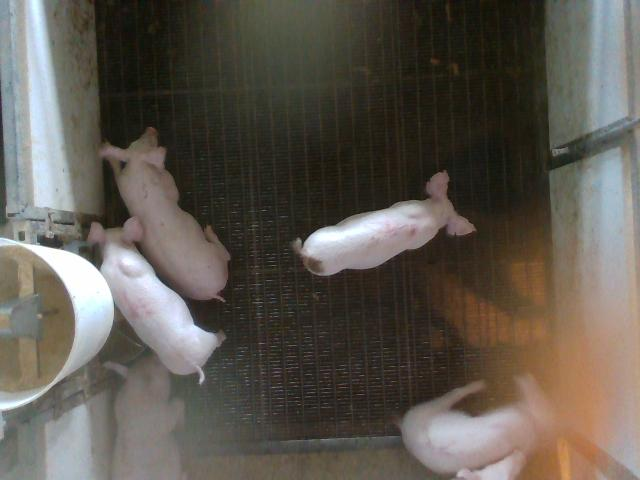pig-4: (88, 218, 224, 383)
pig-5: (294, 172, 474, 276)
